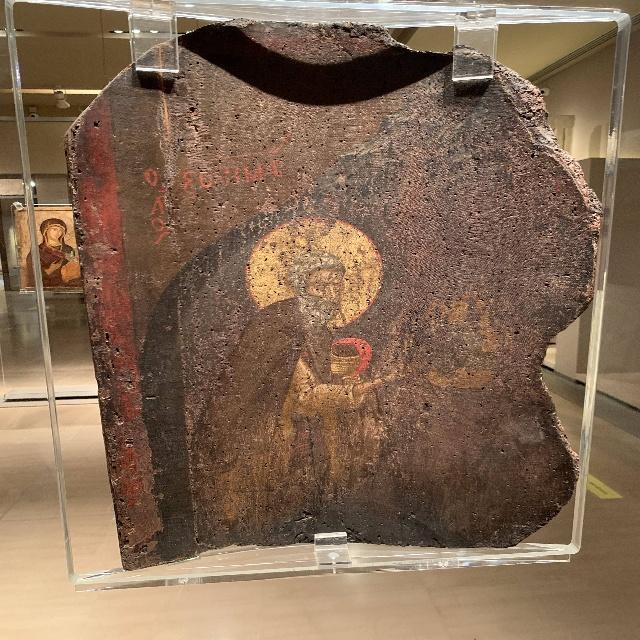aura: (237, 216, 393, 328)
saint: (170, 197, 468, 539)
